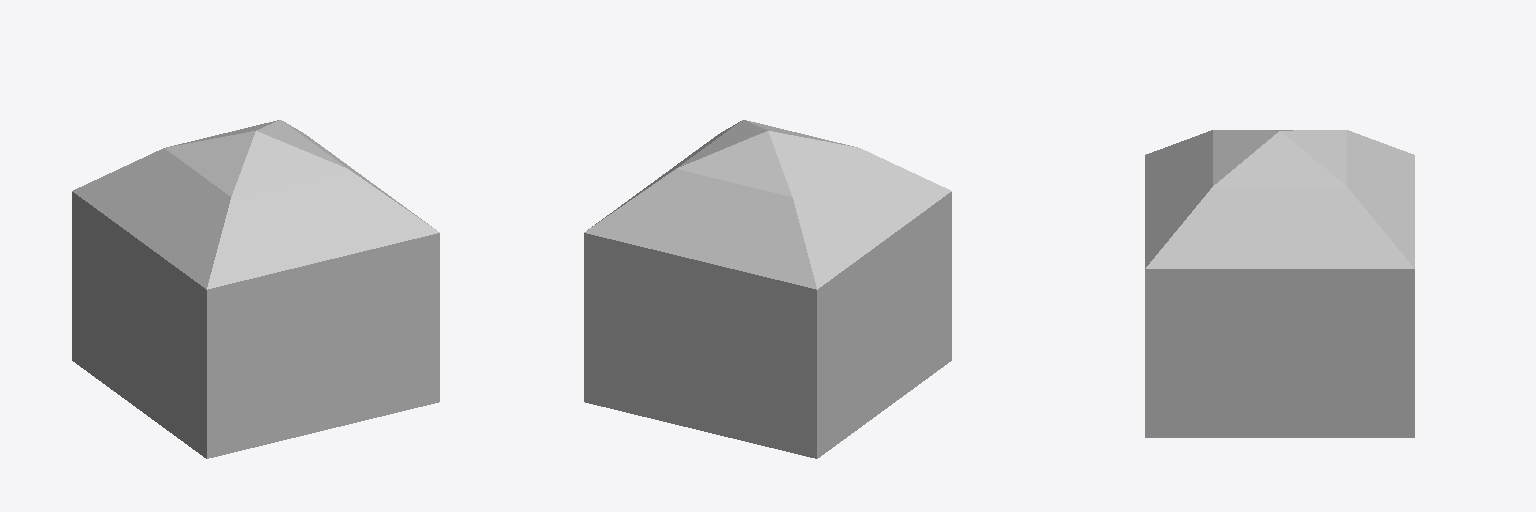
The model's file is house.obj.
3 renders of one model, left to right at view 1: azimuth 30°, elevation 25°; view 2: azimuth 150°, elevation 25°; view 3: azimuth 270°, elevation 25°, orthographic.
Parts seen in each view (by area): view 1: Cube; view 2: Cube; view 3: Cube.
Boxes of the visible parts, <box> form: Cube: <box>72,120,439,458</box>; Cube: <box>584,120,951,458</box>; Cube: <box>1145,130,1414,437</box>.
Bounding box in the file's own units: 0.4 × 0.4105 × 0.4.